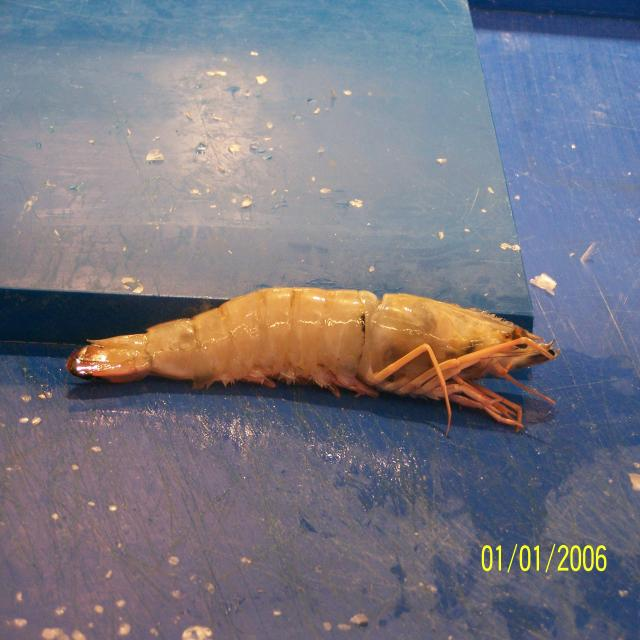Shrimp-karides-: (63, 287, 558, 431)
